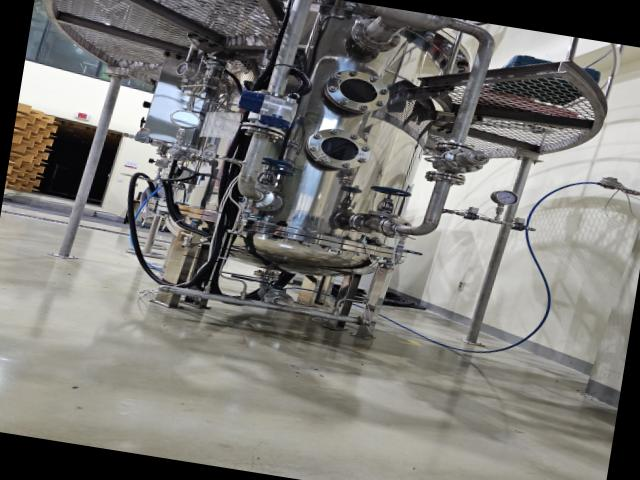Flange: (322, 66, 392, 119), (304, 125, 373, 174)
Flush Ring: (350, 16, 402, 56), (238, 120, 286, 144), (235, 183, 275, 211), (376, 215, 412, 241), (433, 139, 478, 159), (424, 168, 467, 188), (260, 289, 296, 311), (348, 211, 379, 235)
GasRegulator: (172, 54, 238, 112)
Nuts: (196, 147, 222, 161), (130, 132, 155, 146), (459, 211, 484, 223), (508, 222, 530, 232)
Piston Valve: (253, 155, 294, 195), (367, 184, 412, 220)
Pressure Gage: (165, 107, 202, 148), (486, 188, 519, 223)
